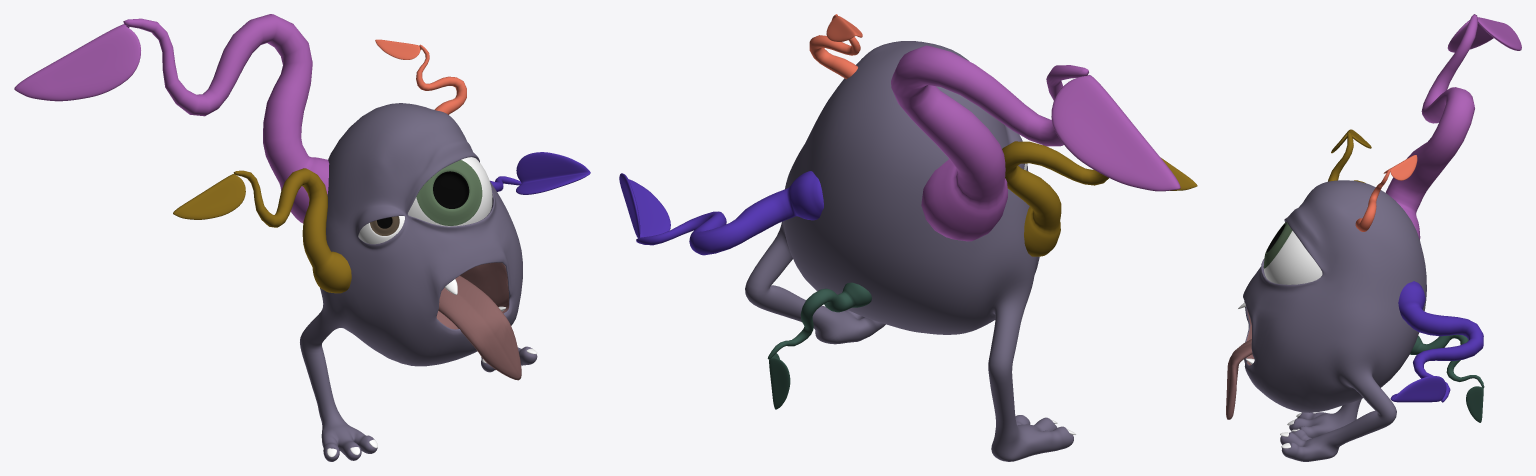
File: Bean_Monster_Instancing_V2.glb
3 views of the same model, side by side, from view 1: azimuth 30°, elevation 25°; view 2: azimuth 150°, elevation 25°; view 3: azimuth 270°, elevation 25° (orthographic). The views are drawn at different scales.
Parts seen in each view (by area): view 1: Instance Child on Parent; view 2: Instance Child on Parent; view 3: Instance Child on Parent.
Part boxes in pixels (x1,y1,x2,y2): Instance Child on Parent: (14,14,590,461); Instance Child on Parent: (619,14,1197,461); Instance Child on Parent: (1226,14,1521,461).
Bounding box in the file's own units: 85.94 × 64.09 × 47.43.
